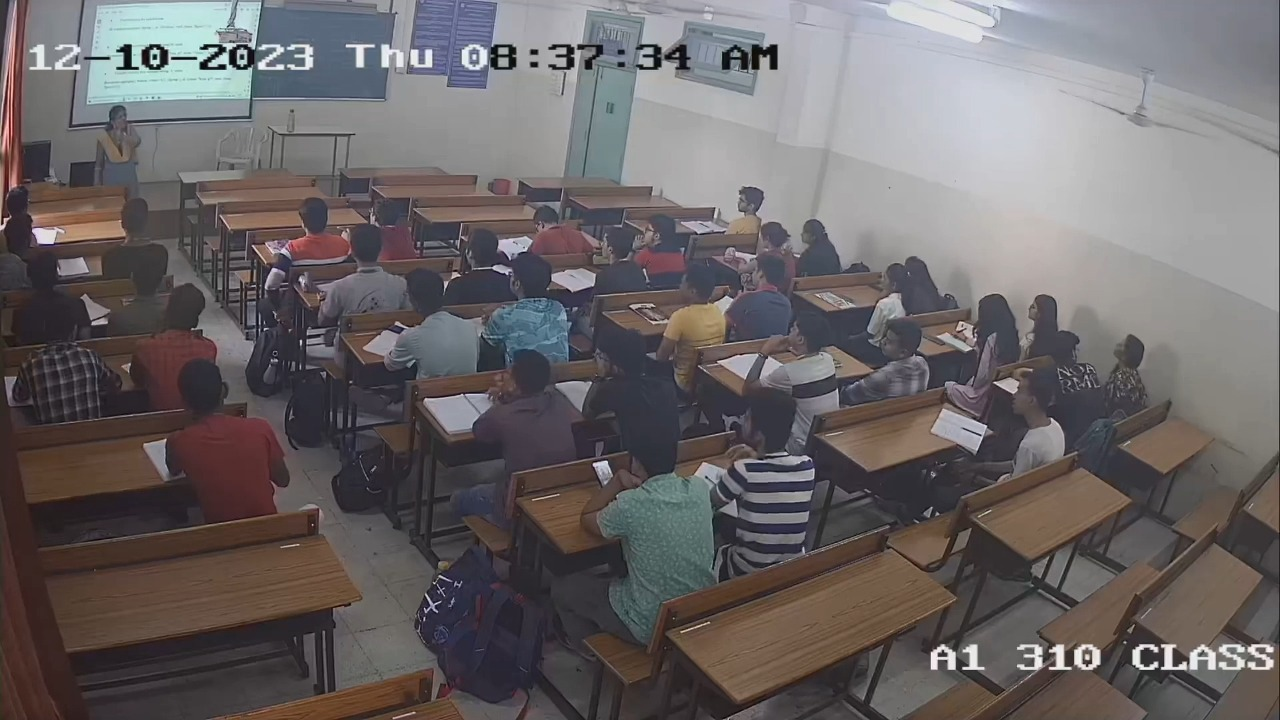cell-phones: (588, 455, 615, 491), (921, 331, 944, 347), (591, 253, 612, 267), (385, 323, 406, 334)
person: (585, 420, 720, 591), (966, 291, 1021, 369), (593, 225, 649, 293)
